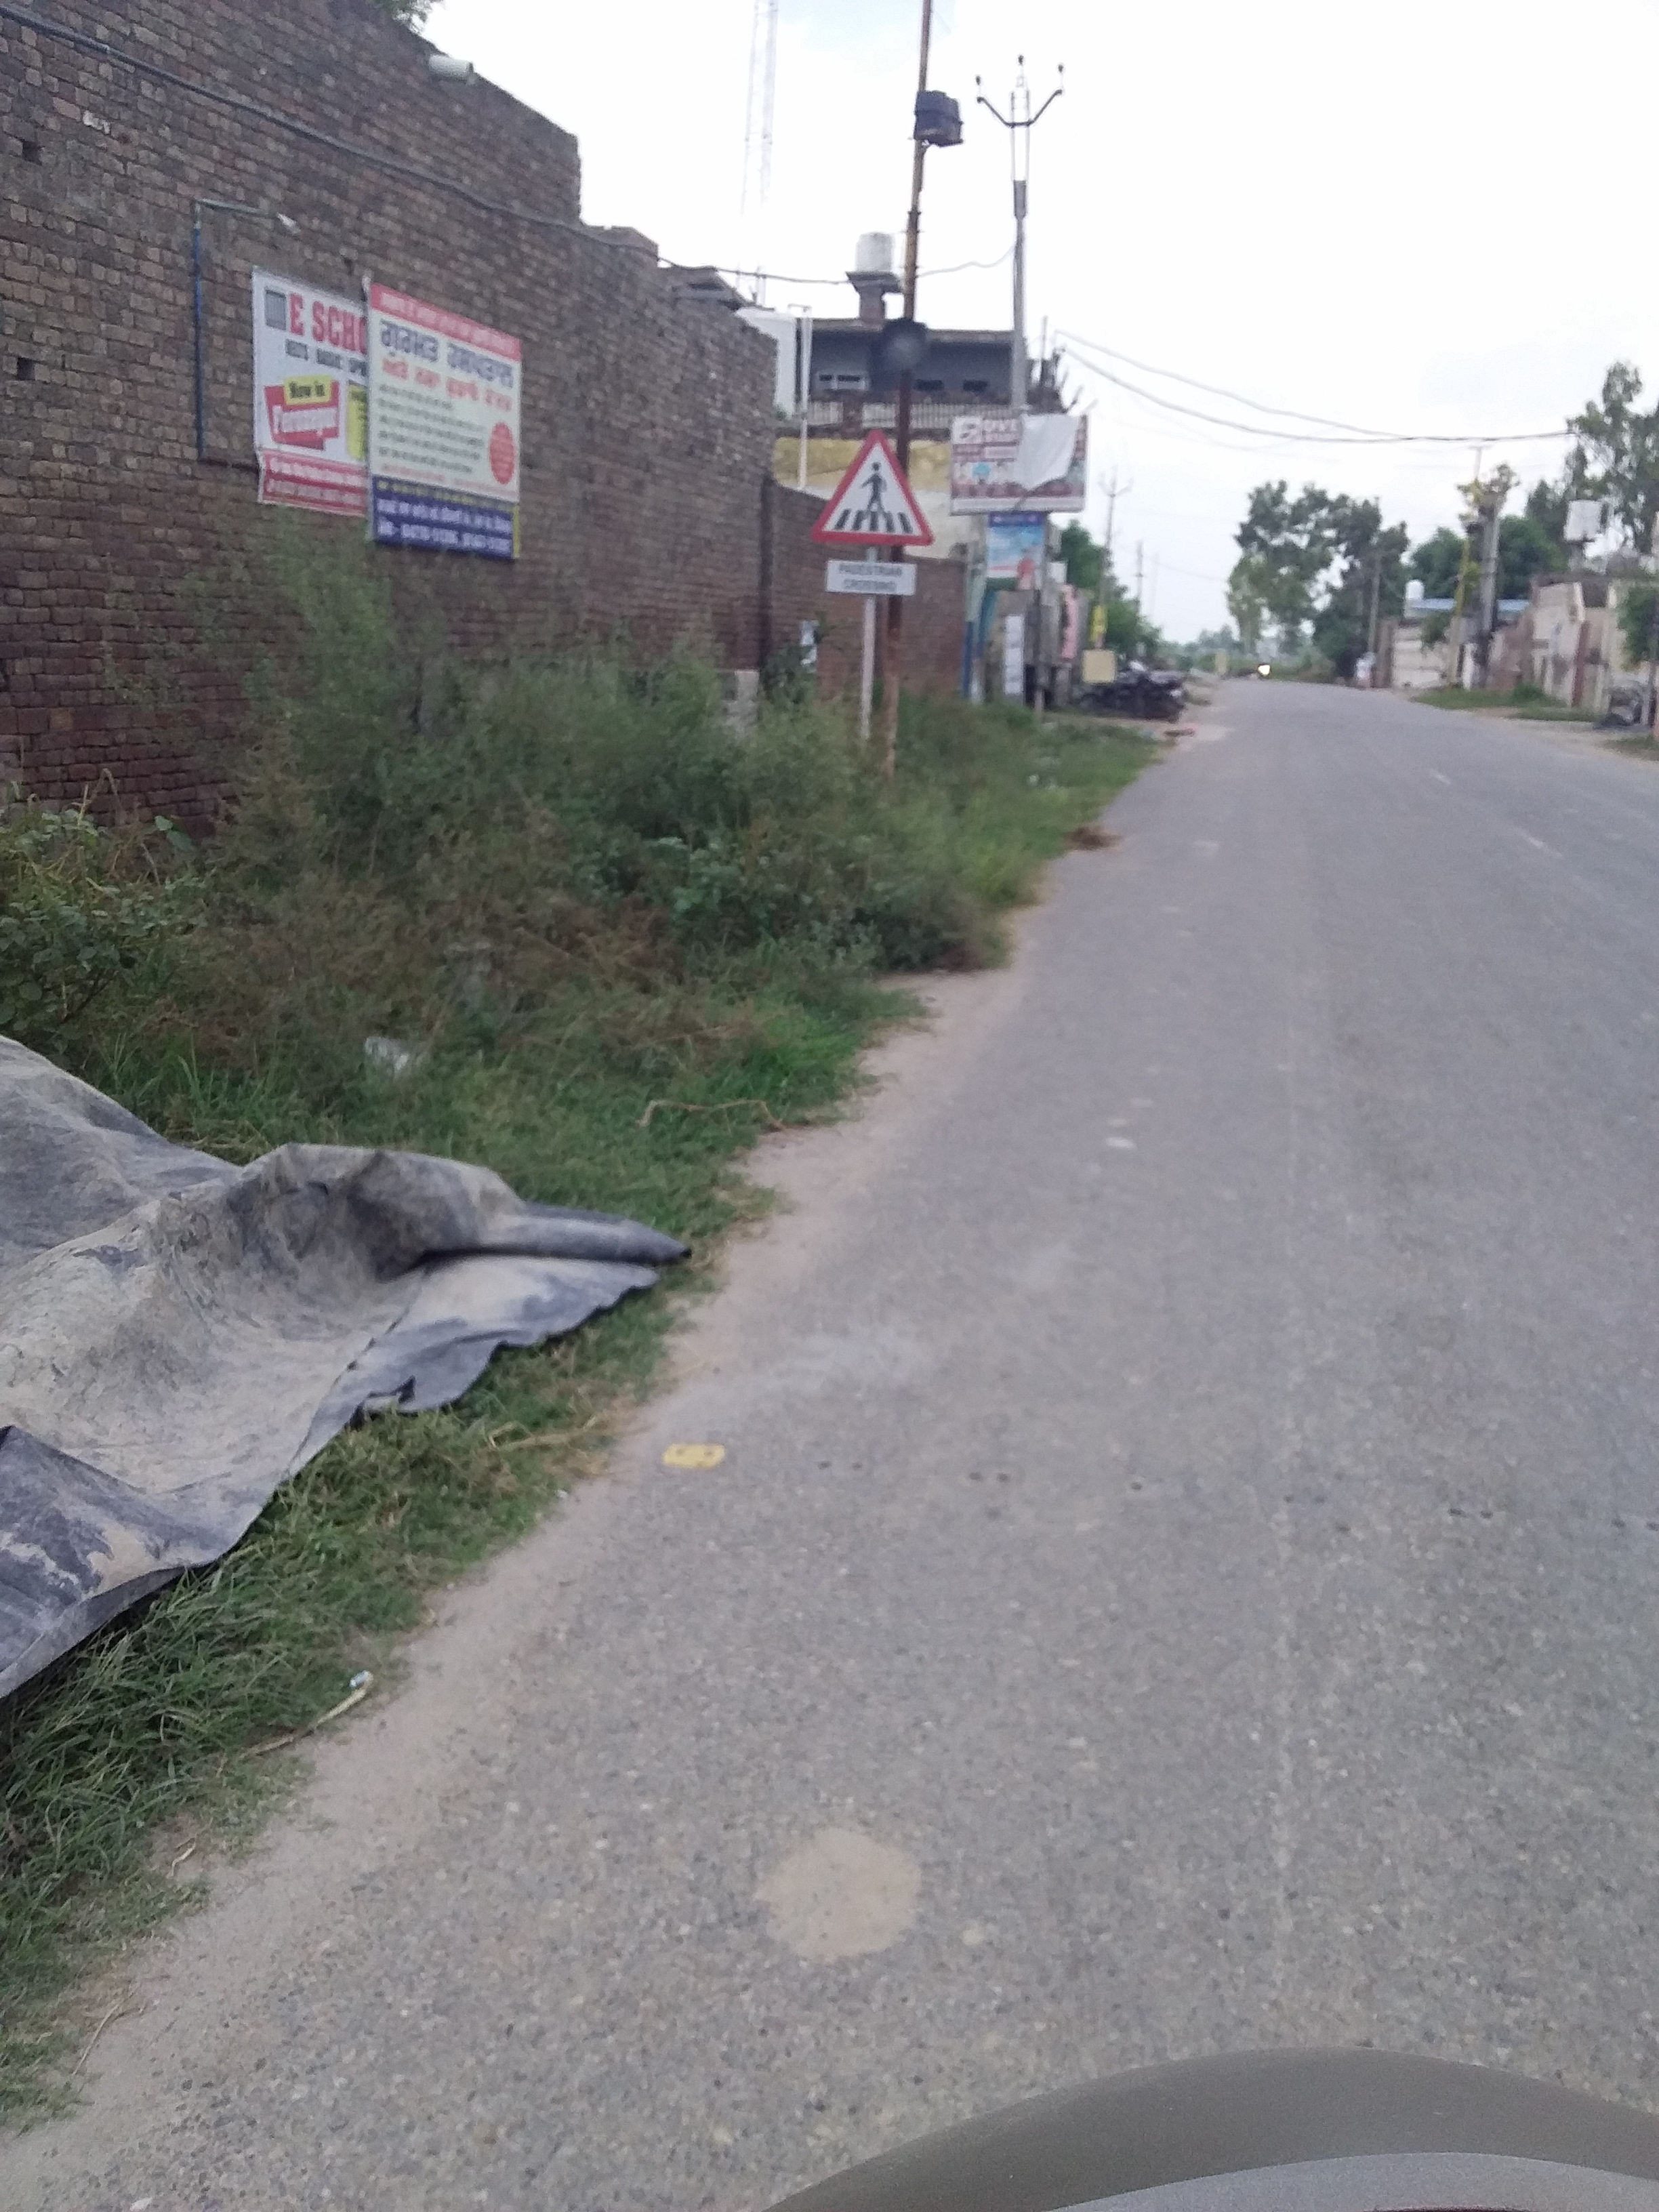traffic_sign: (809, 427, 934, 549), (861, 317, 938, 380)
